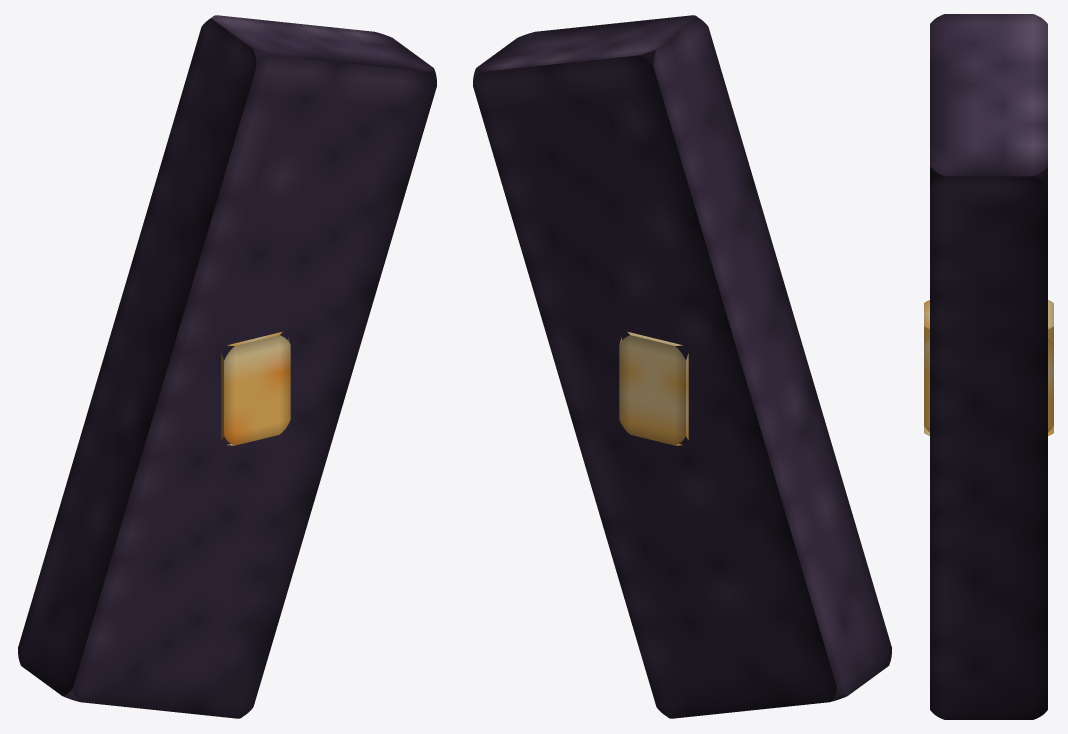
The model's file is obsidian_shard.obj.
3 renders of one model, left to right at view 1: azimuth 30°, elevation 25°; view 2: azimuth 150°, elevation 25°; view 3: azimuth 270°, elevation 25°, orthographic. The views are drawn at different scales.
Parts seen in each view (by area): view 1: lit, fire; view 2: lit, fire; view 3: lit, fire.
Part boxes in pixels (x1=…): lit: x1=18, y1=15, x2=436, y2=718; fire: x1=221, y1=332, x2=290, y2=445; lit: x1=473, y1=15, x2=891, y2=718; fire: x1=619, y1=332, x2=688, y2=445; lit: x1=930, y1=14, x2=1047, y2=719; fire: x1=924, y1=300, x2=1053, y2=435.
Bounding box in the file's own units: 0.4882 × 0.832 × 0.1375.
